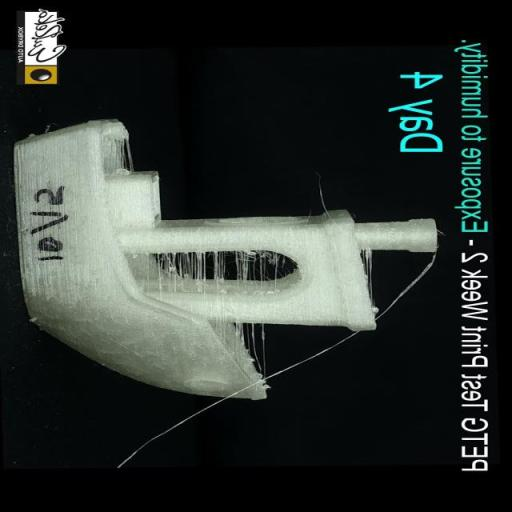stringing: (144, 246, 278, 292), (236, 323, 269, 340), (364, 250, 374, 290)
